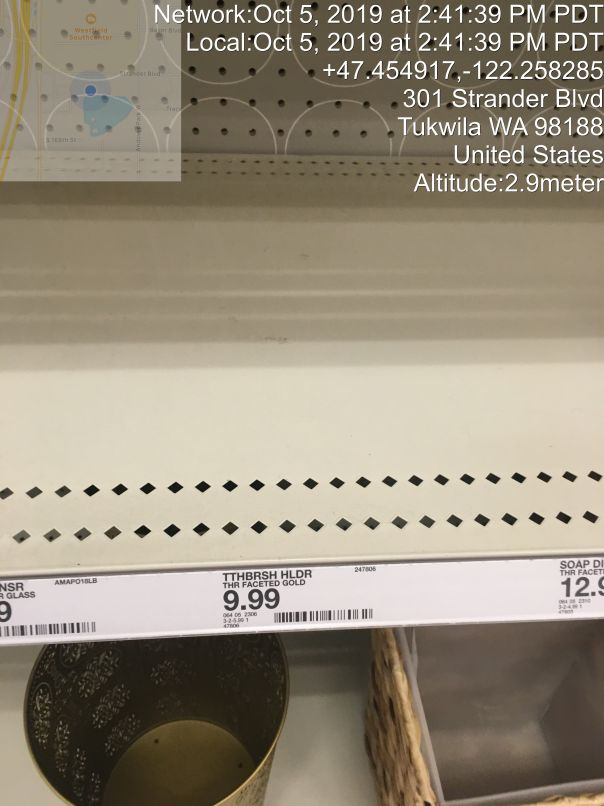Label: (214, 563, 393, 635)
Location: (394, 81, 604, 172)
Time: (149, 2, 604, 53)
Void: (12, 78, 590, 521)
